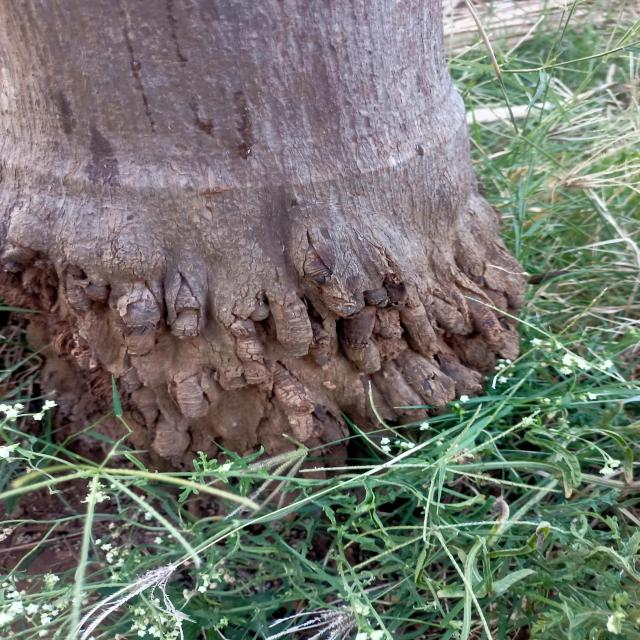Healthy_Foot: (40, 156, 568, 503)
